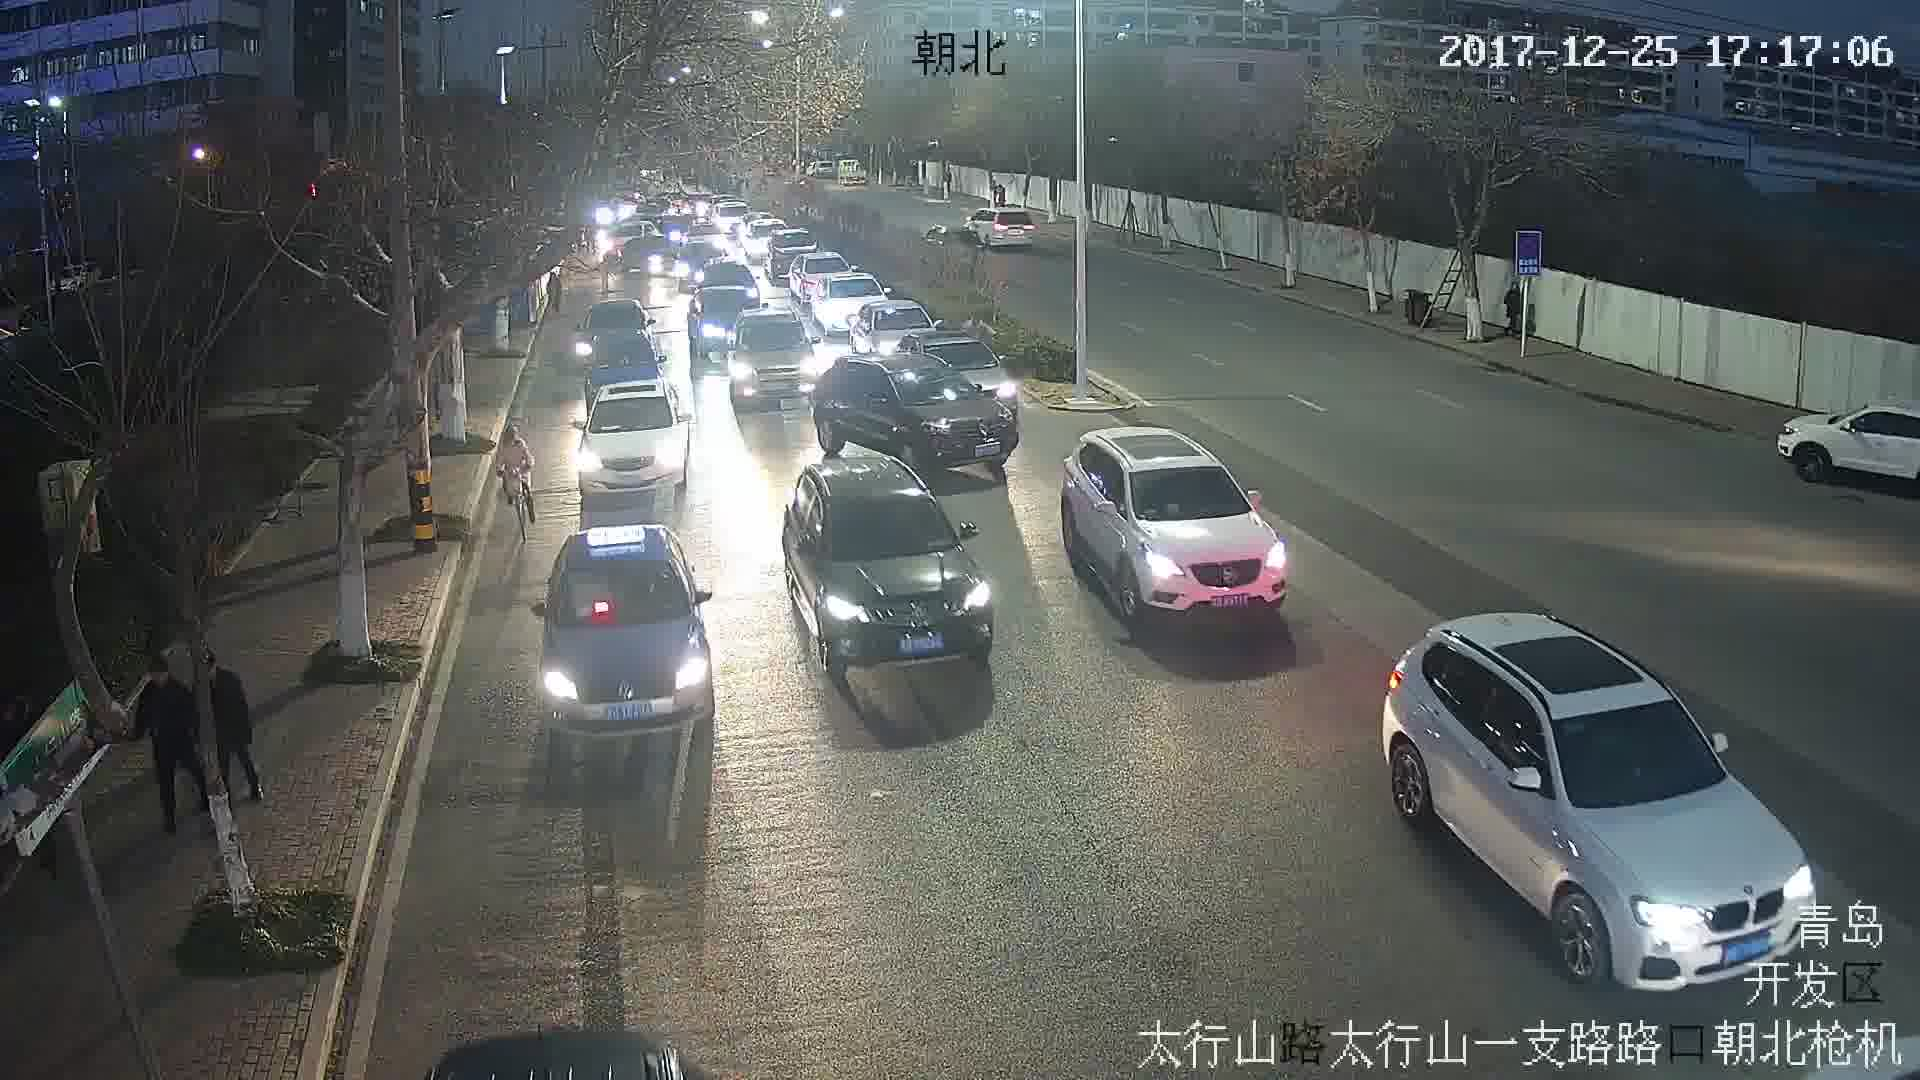car: (1388, 609, 1820, 992), (1053, 421, 1291, 635), (787, 453, 1005, 666), (532, 527, 706, 734), (810, 355, 1021, 464), (571, 381, 693, 496), (727, 314, 813, 407), (964, 213, 1038, 255)
person: (124, 656, 207, 821), (202, 653, 274, 799), (498, 424, 539, 521), (1507, 281, 1523, 330)
